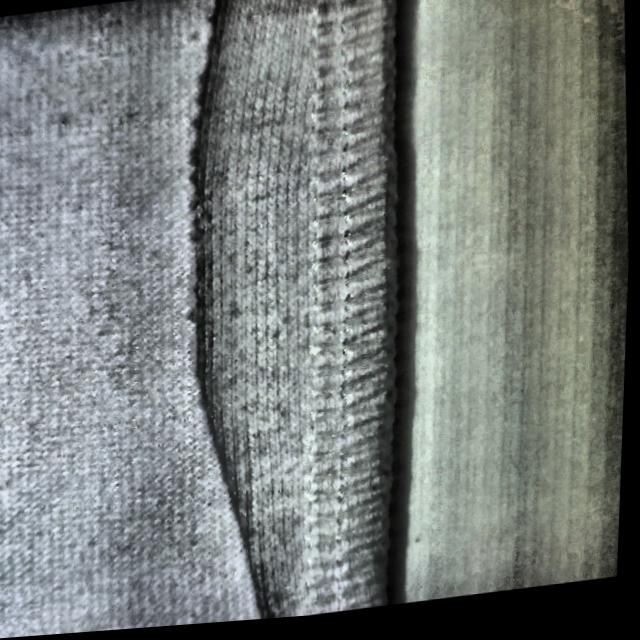seam: (105, 0, 430, 577)
